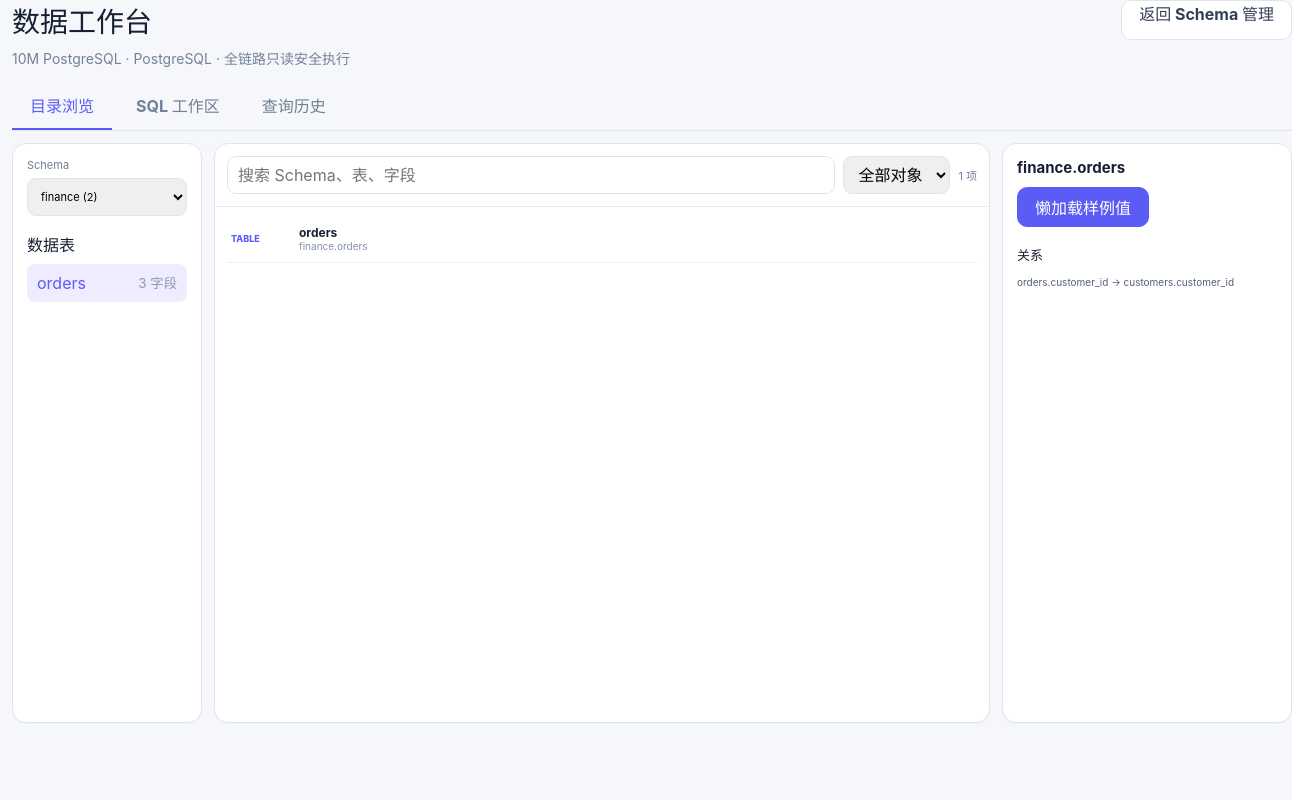
Scenario: Data Workspace › connects catalog, lazy masked samples, guarded SQL, history replay and Verified SQL
expect the heading "数据工作台" is shown: met, box [12, 5, 152, 39]
expect the heading "finance.orders" is shown: met, box [1017, 158, 1125, 177]
Click the button "懒加载样例值" at point(1083, 207), box [1017, 187, 1149, 227]
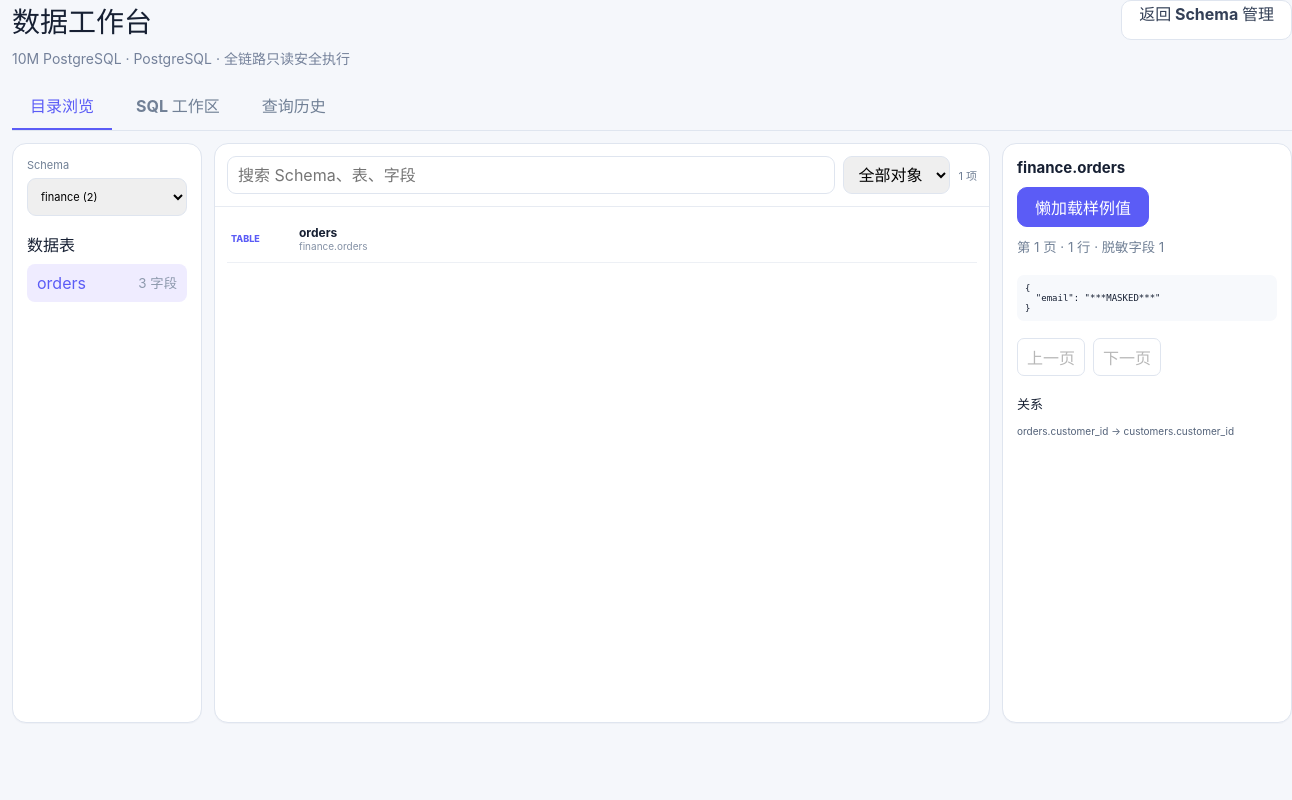
expect the text "{ \"email\": \"***MASKED***\" }" is shown: met, box [1017, 275, 1277, 321]
Click the button "SQL 工作区" at point(178, 106), box [118, 82, 238, 130]
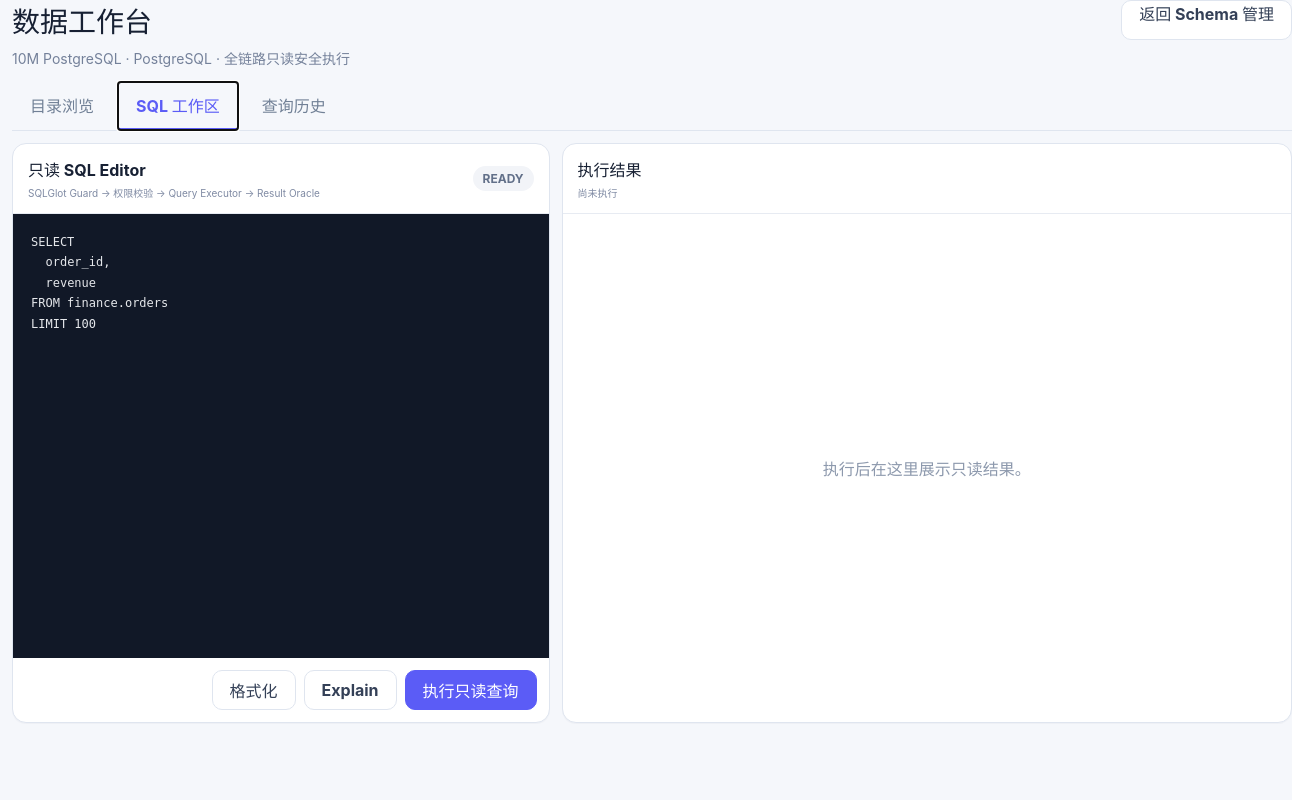
Click the button with test id "execute-sql" at point(471, 690), box [405, 670, 537, 710]
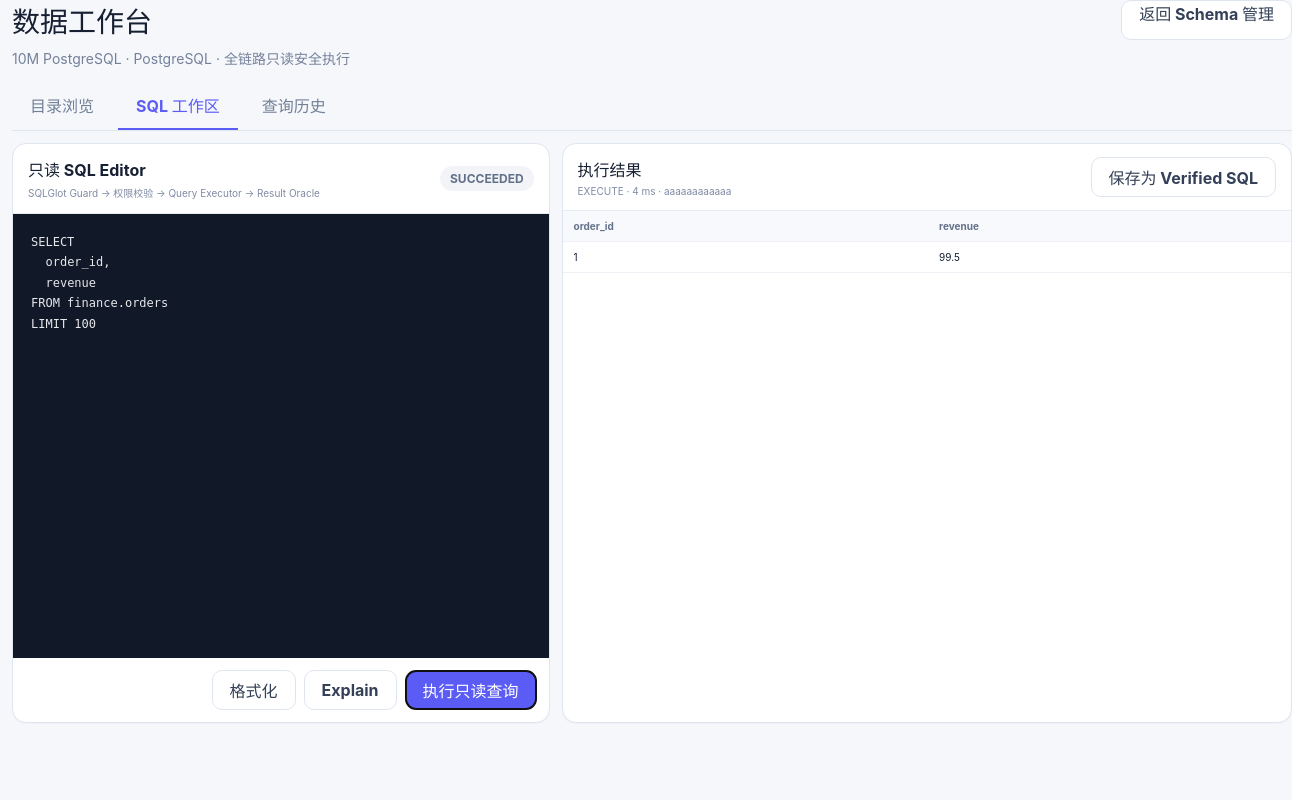
expect the text "99.5" is shown: met, box [928, 242, 1291, 272]
Click the button "保存为 Verified SQL" at point(1183, 177), box [1091, 157, 1276, 197]
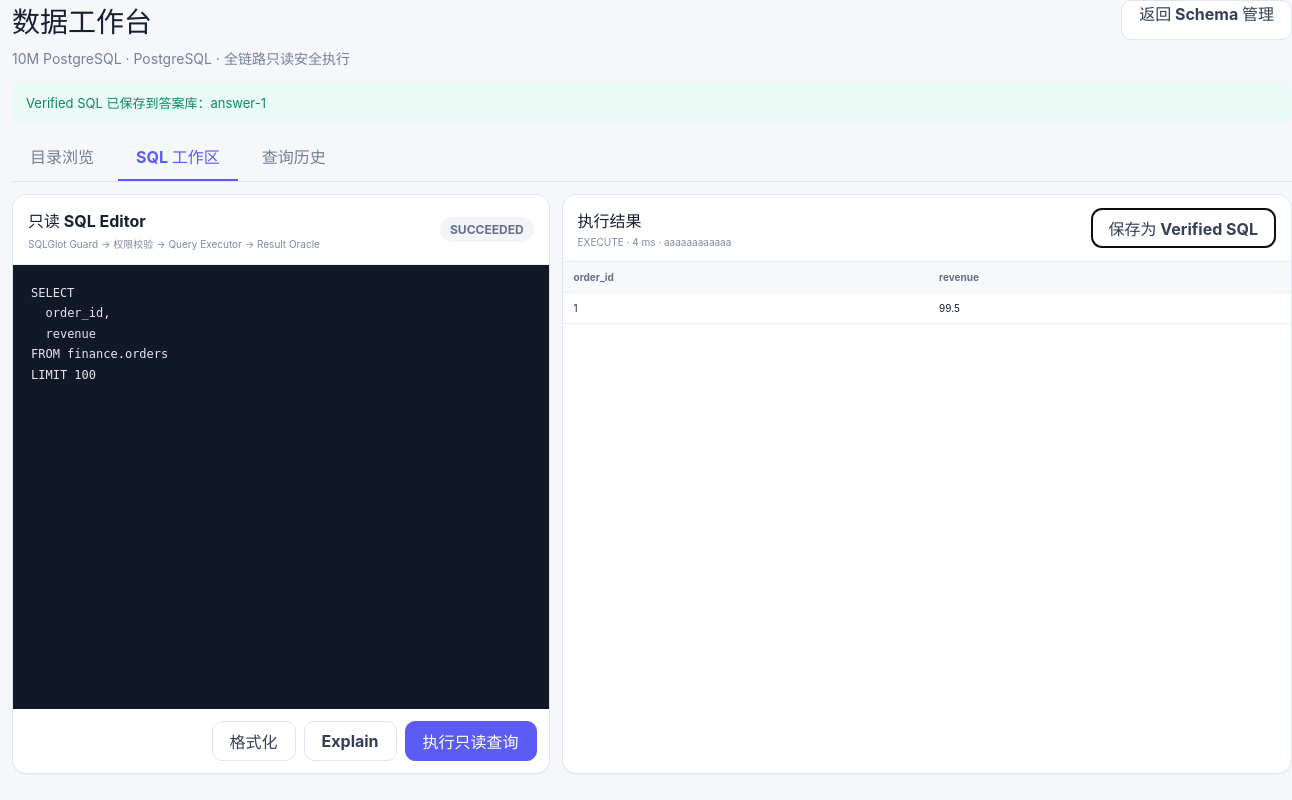
expect the message shows "Verified SQL 已保存到答案库": met, box [26, 95, 266, 111]
